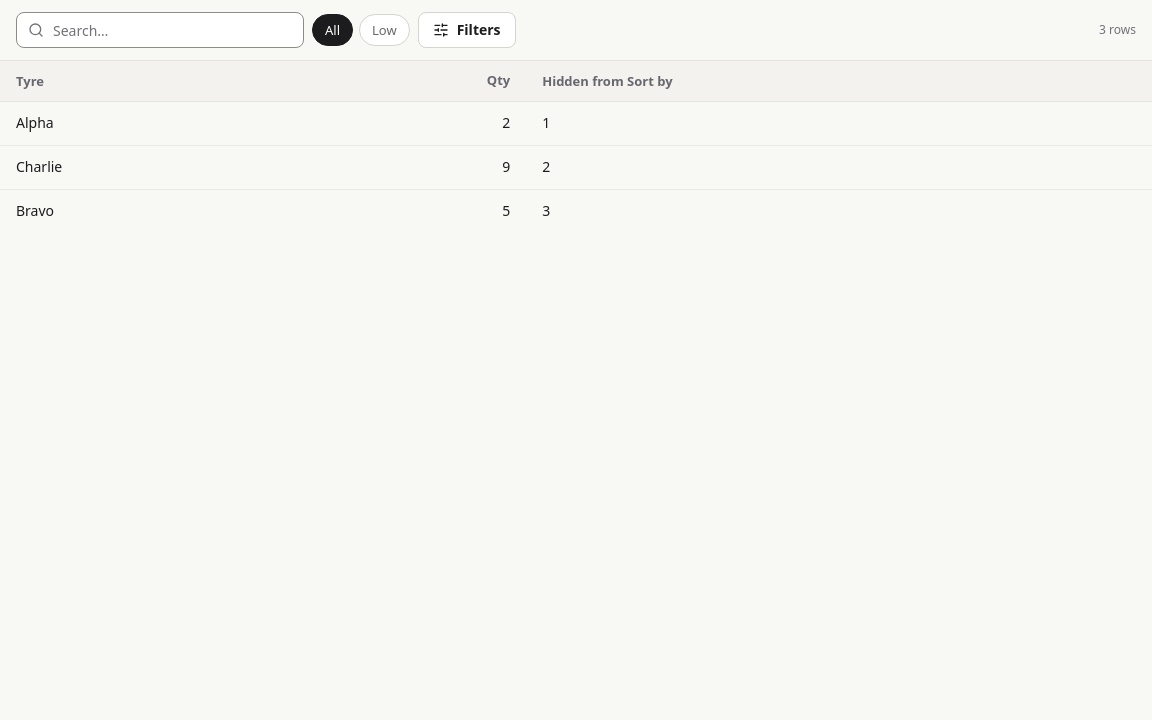
Test case: DataTable filters on a phone › closes with Escape
Click the button "Filters" at point(467, 30), box [418,12,516,48]
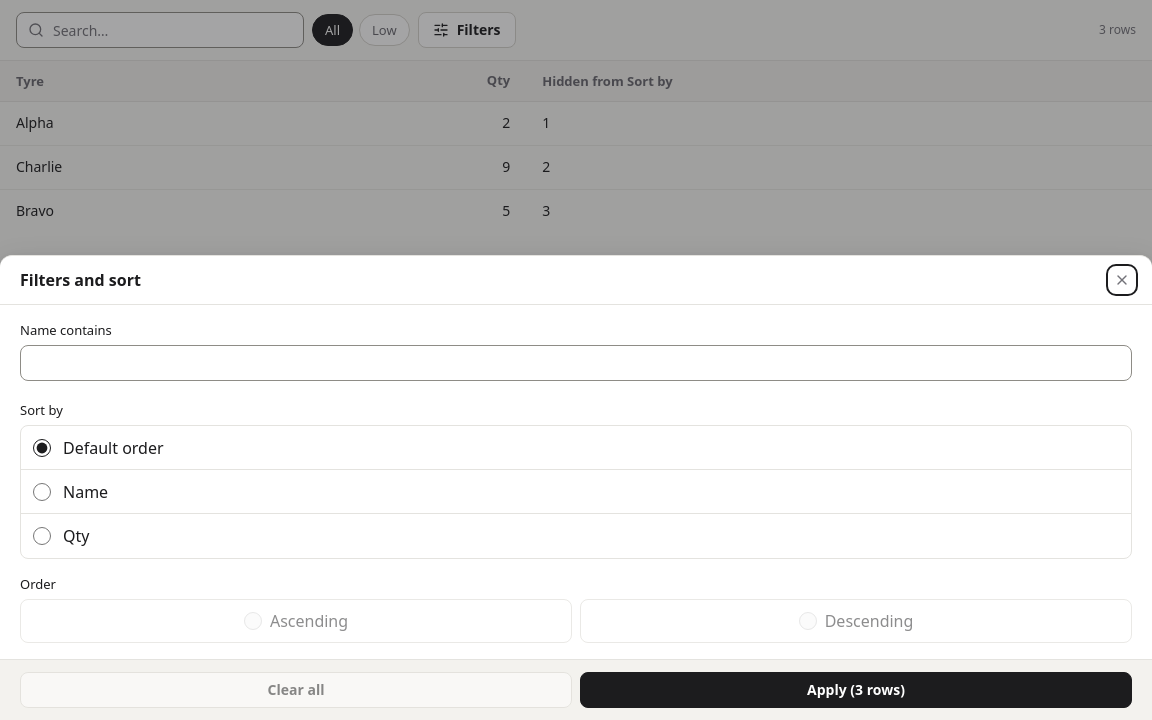
Press Escape in the dialog
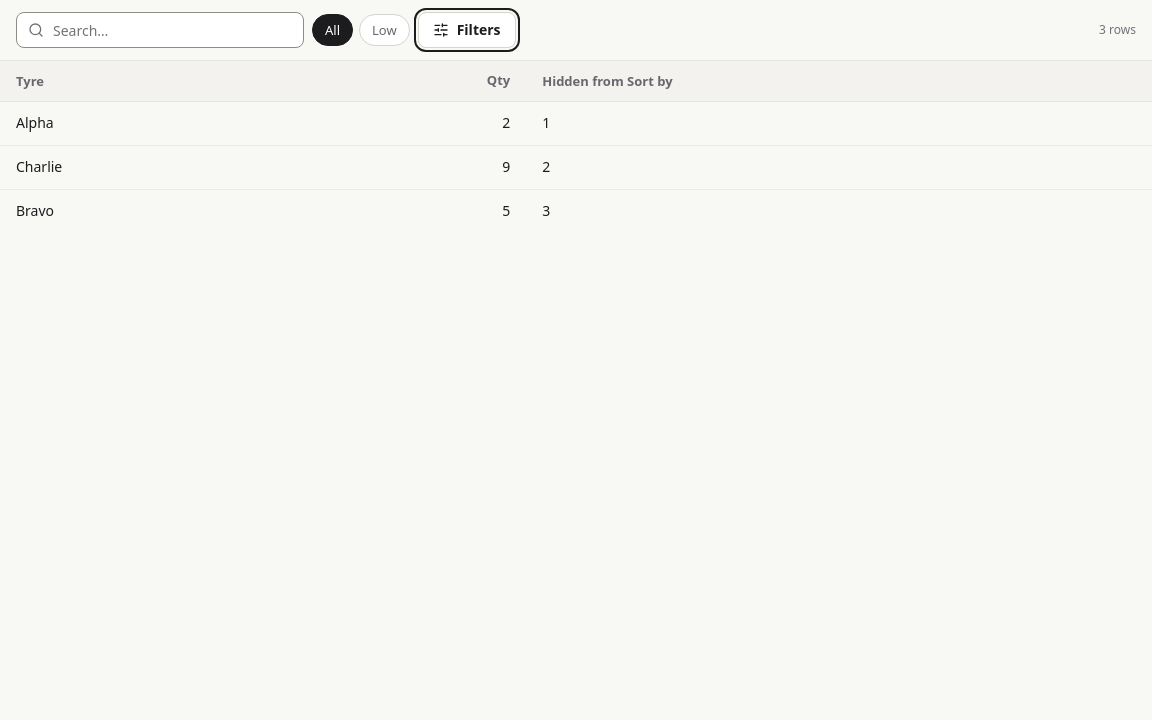
Now the dialog is gone
